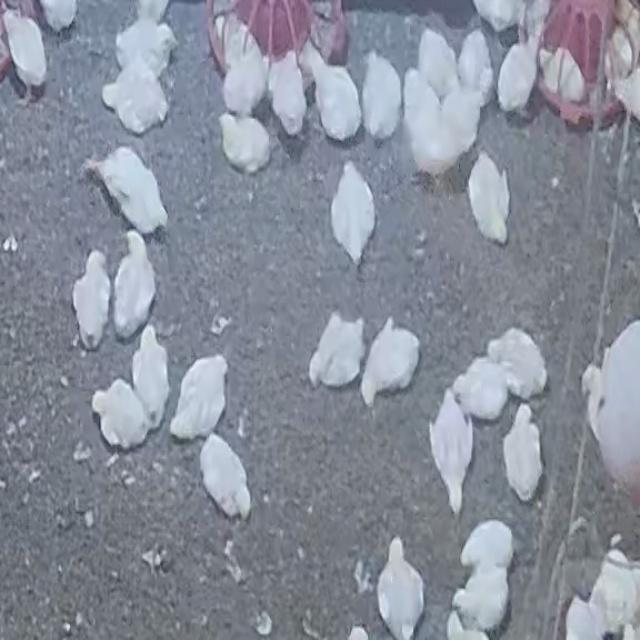chicken: (88, 146, 168, 235), (328, 158, 381, 270), (429, 389, 472, 515), (304, 46, 360, 142), (359, 318, 420, 406), (170, 353, 228, 440), (101, 61, 169, 135), (306, 310, 367, 392), (112, 232, 158, 340), (377, 537, 425, 640), (485, 328, 546, 402), (199, 434, 251, 520), (90, 378, 151, 451), (71, 247, 113, 351), (467, 150, 511, 244), (220, 32, 268, 118), (131, 327, 170, 431), (502, 402, 542, 502), (2, 9, 48, 94), (217, 112, 276, 178), (267, 49, 309, 138), (451, 359, 512, 420), (360, 52, 401, 141)
